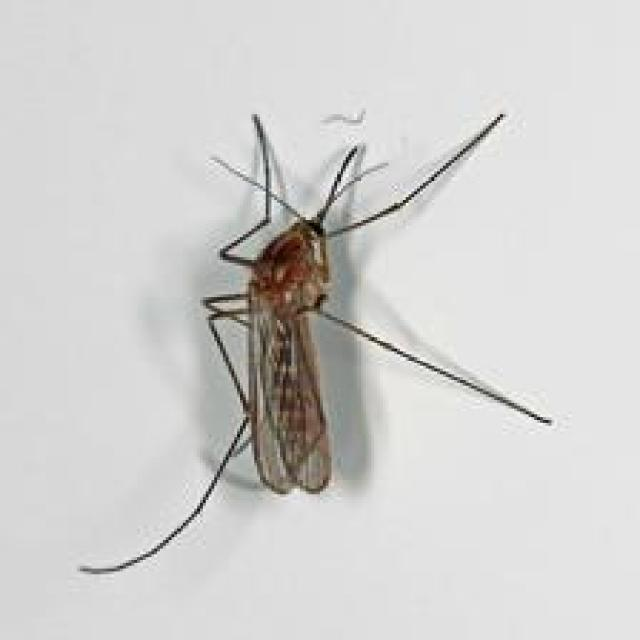Culex: (77, 106, 554, 577)
